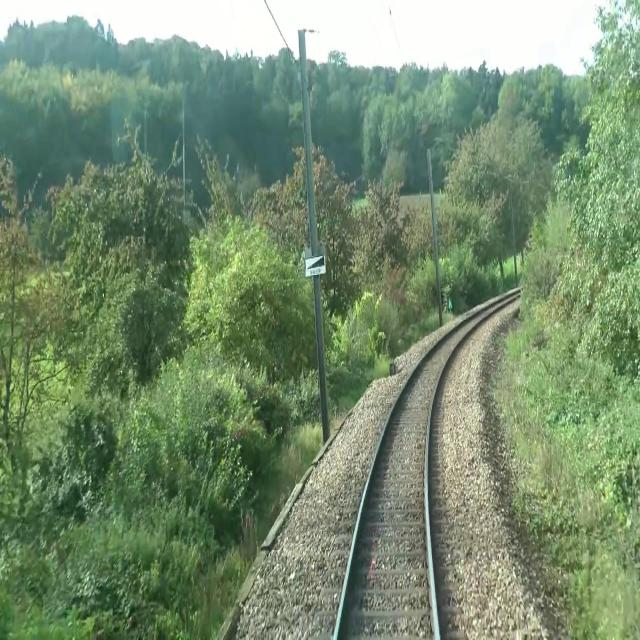rail-track: (337, 290, 521, 639)
